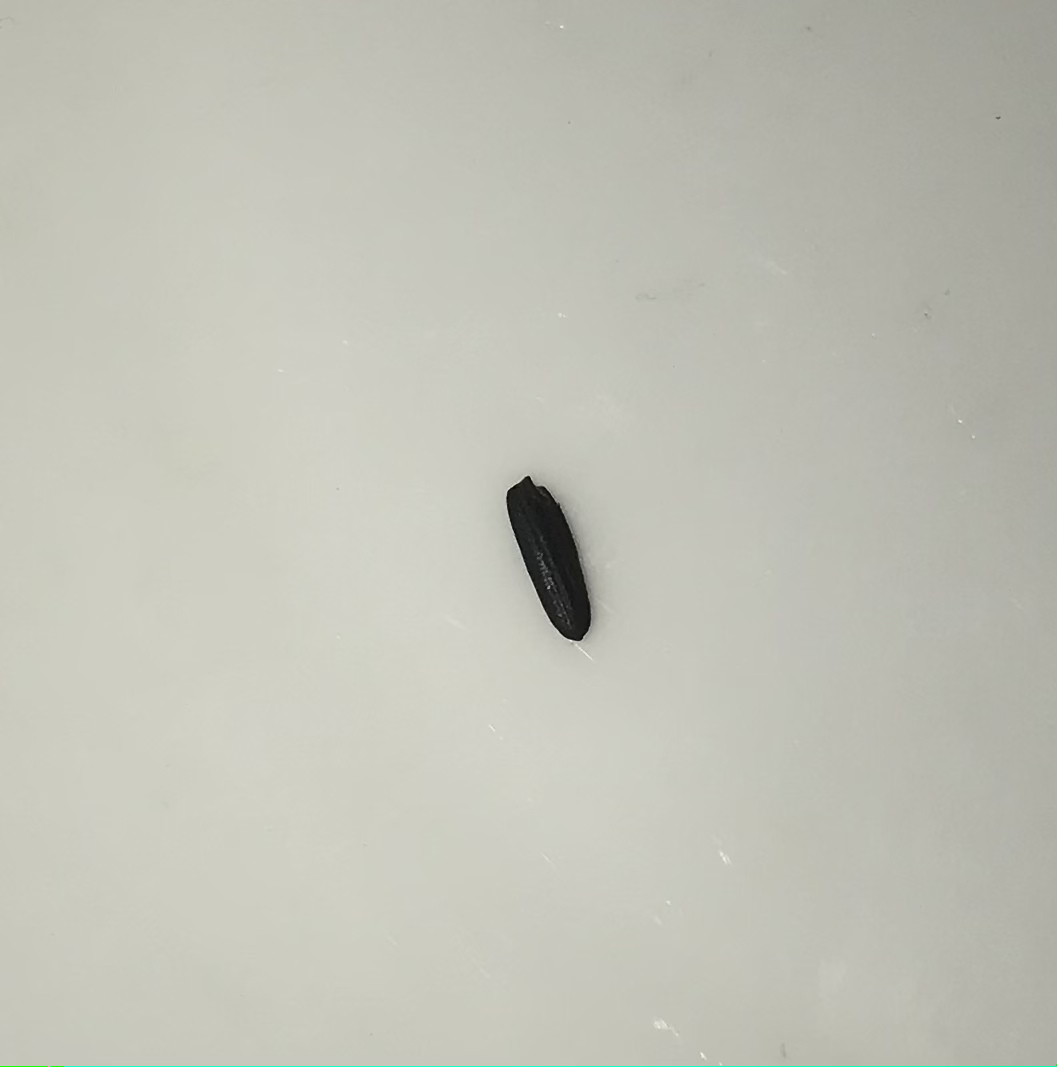Gao Nep Cam: (490, 469, 611, 654)
